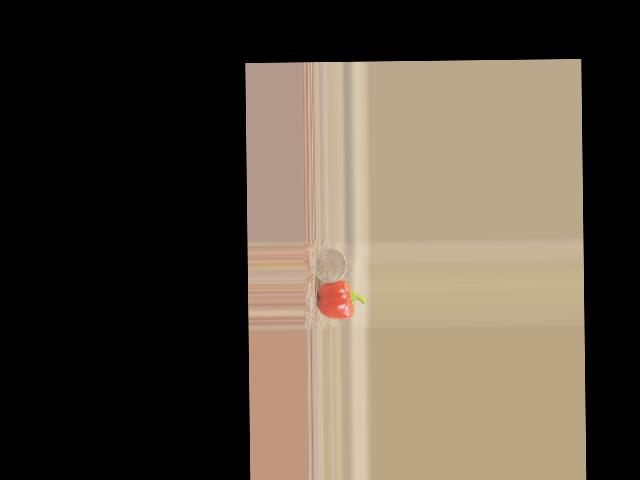bell_pepper: (315, 281, 366, 319)
